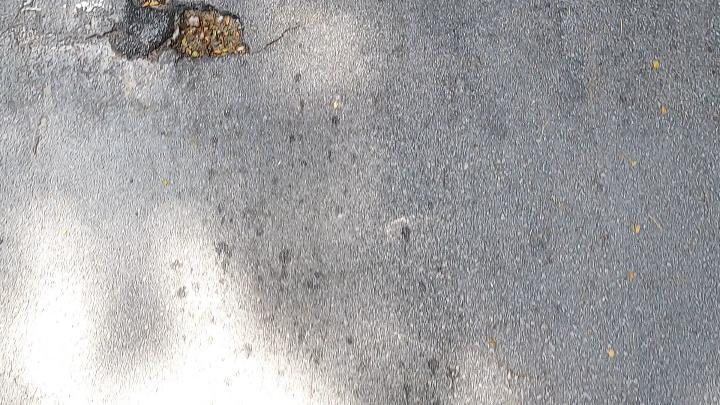Pothole: (72, 0, 256, 62), (76, 0, 247, 57)
